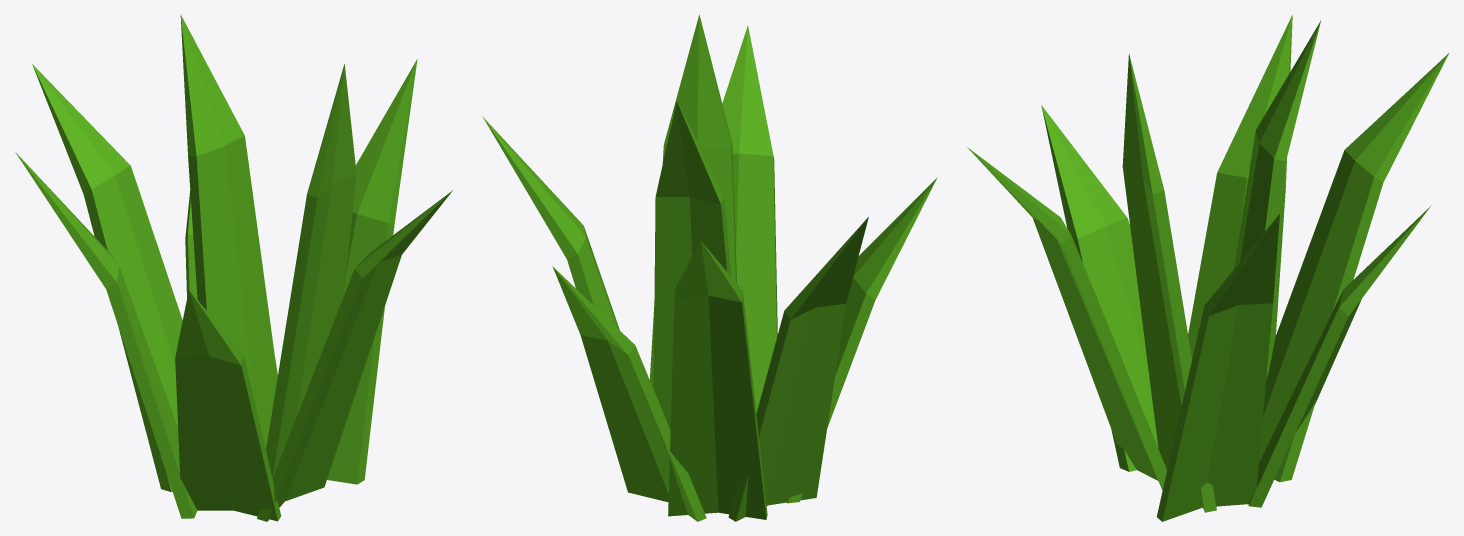
Rendered from Grass_d_03.fbx.
The picture shows the model from 3 angles, left to right: view 1: azimuth 30°, elevation 25°; view 2: azimuth 150°, elevation 25°; view 3: azimuth 270°, elevation 25°; orthographic projection. The views are drawn at different scales.
Parts seen in each view (by area): view 1: Grass_d_03_LOD0; view 2: Grass_d_03_LOD0; view 3: Grass_d_03_LOD0.
Part boxes in pixels (bbox=[...]): Grass_d_03_LOD0: bbox=[15, 14, 452, 521]; Grass_d_03_LOD0: bbox=[482, 14, 937, 521]; Grass_d_03_LOD0: bbox=[967, 15, 1449, 521].
Size of what is drawn, in the model's own units: 16.23 by 17.11 by 16.63.
